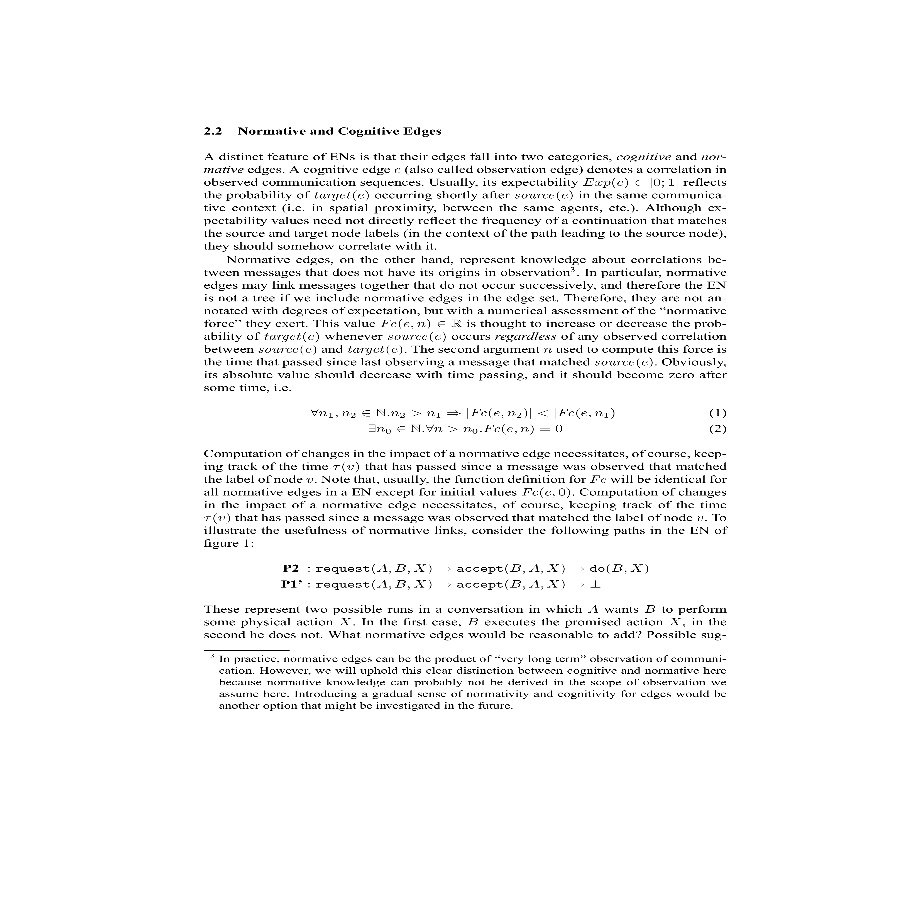eq: (271, 558, 650, 591), (304, 404, 618, 433)
